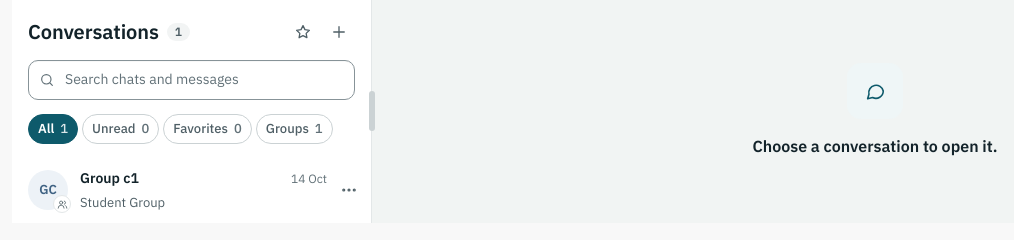
Test: Super admin: a new 1:1 chat (PD-8) › is not offered to an operator
The width and height of the screenshot is (1014, 240).
expect the text "Group c1" is shown: met, box [80, 168, 139, 189]
# An operator's menu offers a family group, never a 1:1 with anyone.
Step 1. Click the button named "New chat or group" → point(339, 32), box [323, 16, 355, 48]
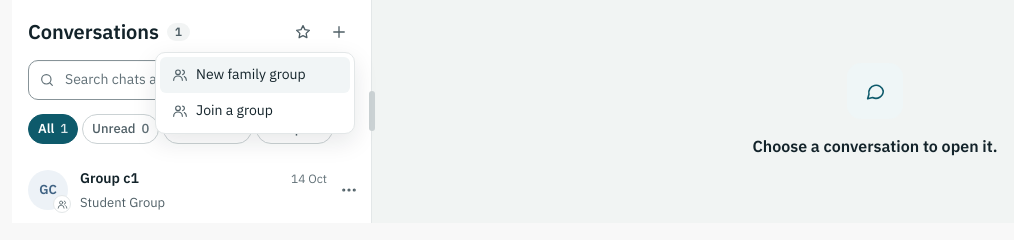
expect the menu item "New family group" is shown: met, box [160, 57, 350, 93]
